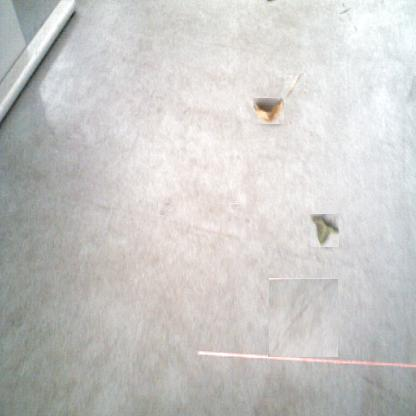dirty: (310, 213, 340, 247), (254, 98, 286, 124), (283, 74, 305, 97)
mark: (268, 278, 338, 357), (361, 373, 385, 391), (404, 76, 416, 106), (157, 197, 175, 215), (340, 5, 352, 16), (181, 106, 191, 116), (156, 107, 164, 119), (243, 216, 251, 224), (231, 202, 238, 209), (380, 1, 384, 4)
